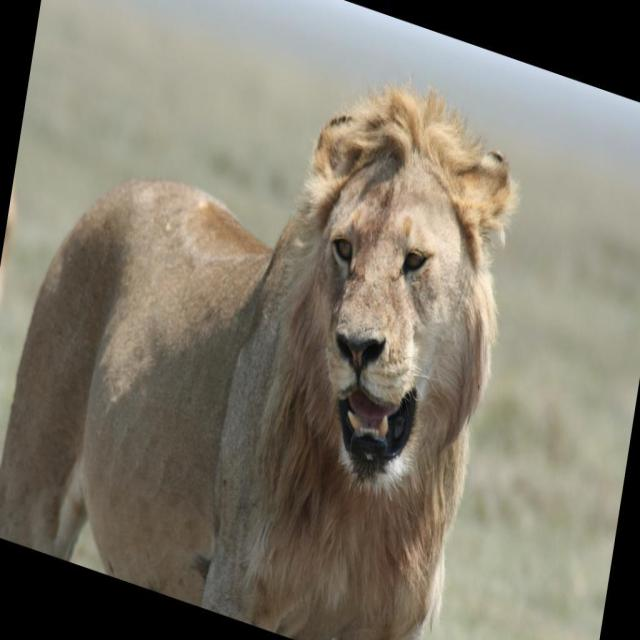Lion: (0, 0, 532, 639)
